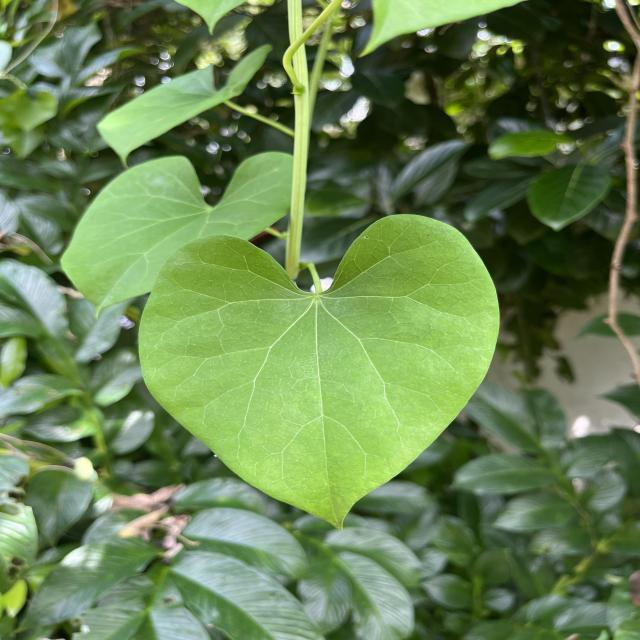Tinospora cordifolia: (134, 211, 506, 534)
